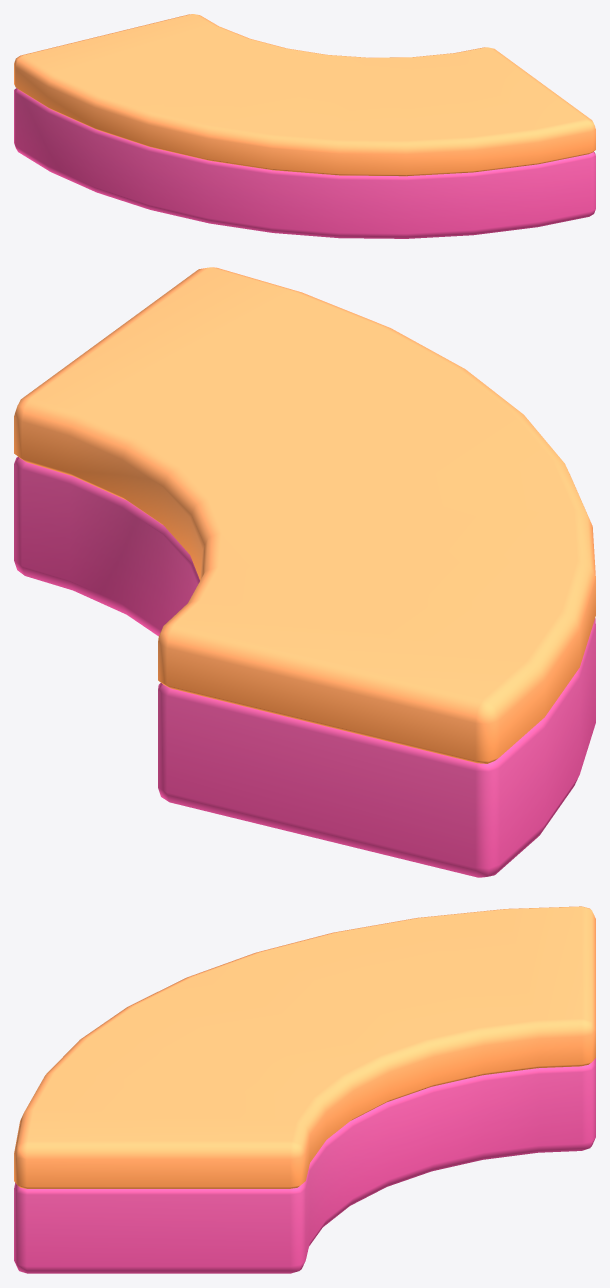
File: Platform_07.glb
3 renders of one model, top to bottom at view 1: azimuth 30°, elevation 25°; view 2: azimuth 150°, elevation 25°; view 3: azimuth 270°, elevation 25°, orthographic. The views are drawn at different scales.
Visible parts, largest first — view 1: Platform_07; view 2: Platform_07; view 3: Platform_07.
Boxes of the visible parts, x1,y1,x2,y2 form: Platform_07: (14, 14, 595, 238); Platform_07: (14, 267, 595, 877); Platform_07: (14, 906, 595, 1273).
Bounding box in the file's own units: 11.98 × 3 × 11.98.
1 material, 1 textured.
